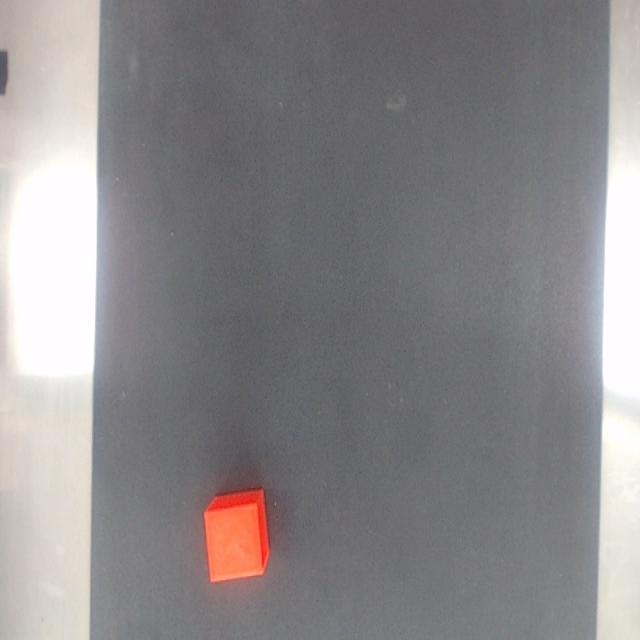Rojo: (203, 489, 269, 583)
